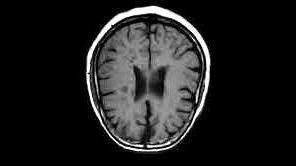Normal_Brain: (79, 1, 251, 166)
